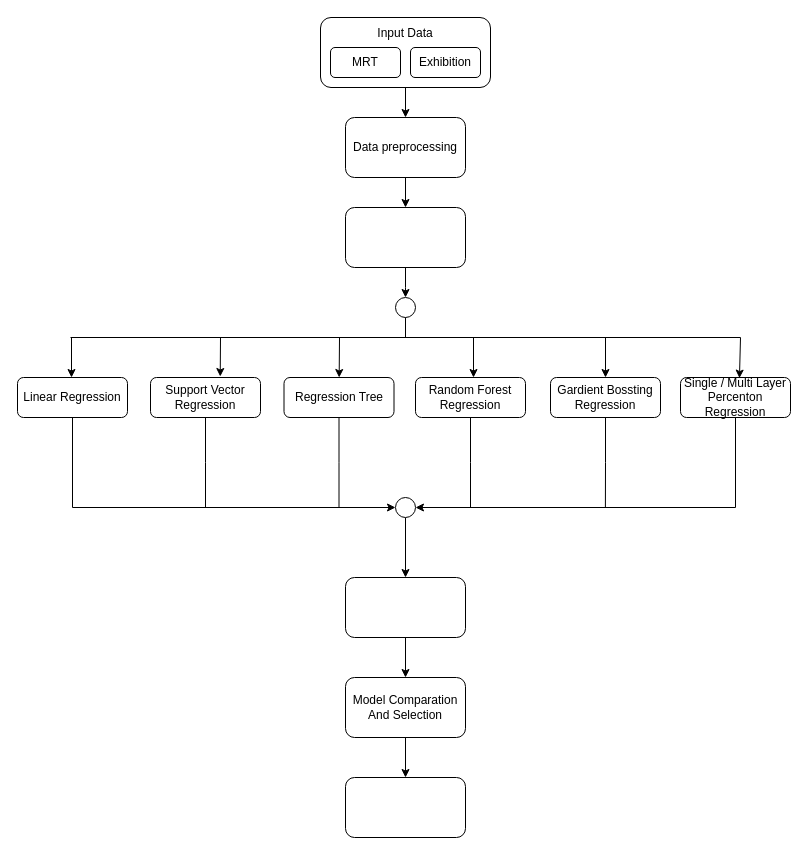
Some shapes in this 808 by 855 pixel diagram are drawn without their labels. The centre of each missing label's shape, as x and y in pixels:
"Model Evaluation" goes at point 405,607.
"Model Training" goes at point 405,237.
"Output Data" goes at point 405,807.
